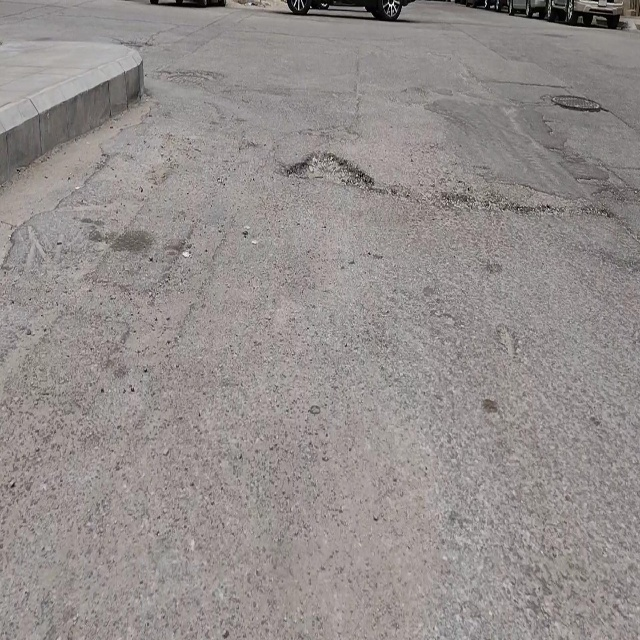pothole: (285, 145, 371, 189)
